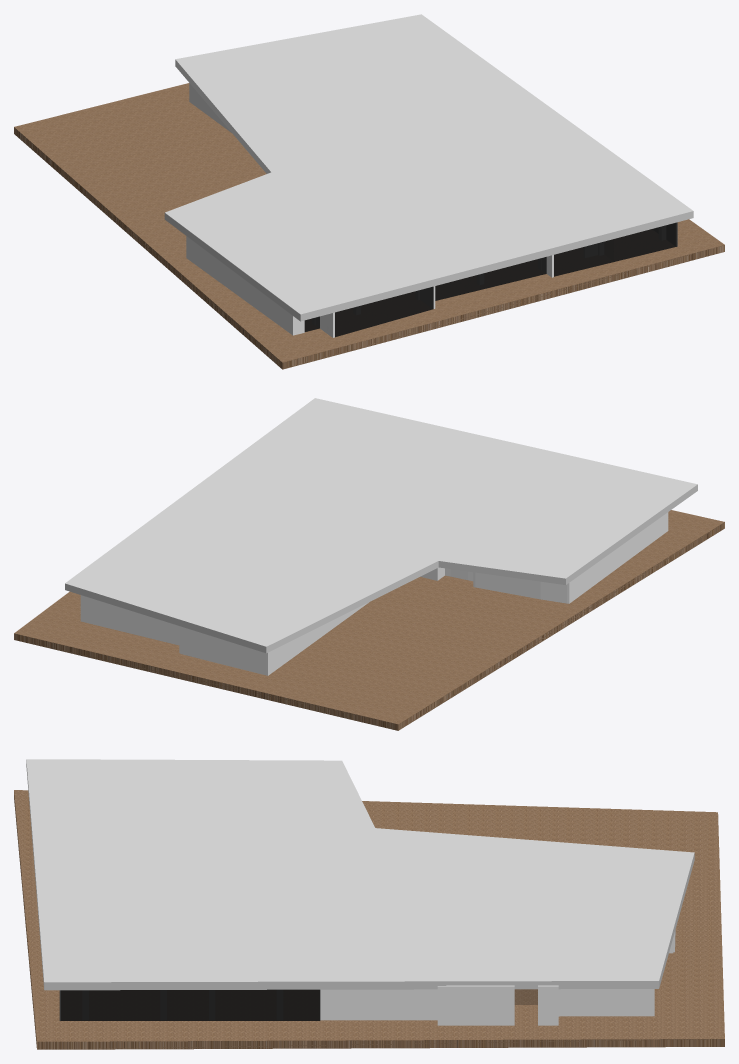
File: Office2.glb
3 renders of one model, top to bottom at view 1: azimuth 30°, elevation 25°; view 2: azimuth 150°, elevation 25°; view 3: azimuth 270°, elevation 25°, orthographic. The views are drawn at different scales.
Visible parts, largest first — view 1: Floor.001, Floor, Outer_Window_dummy, Main_wall; view 2: Floor.001, Floor, Main_wall; view 3: Floor.001, Floor, Main_wall, Outer_Window_dummy.
Boxes of the visible parts, x1,y1,x2,y2 form: Floor.001: (164, 14, 693, 321); Floor: (14, 83, 724, 369); Outer_Window_dummy: (304, 222, 676, 337); Main_wall: (186, 83, 553, 337); Floor.001: (65, 398, 697, 653); Floor: (14, 510, 724, 730); Main_wall: (80, 512, 668, 675); Floor.001: (26, 759, 694, 990); Floor: (14, 790, 724, 1049); Main_wall: (320, 930, 675, 1025); Outer_Window_dummy: (61, 989, 320, 1020).
Bounding box in the file's own units: 45.31 × 4.35 × 54.05.
5 materials, 1 textured.
